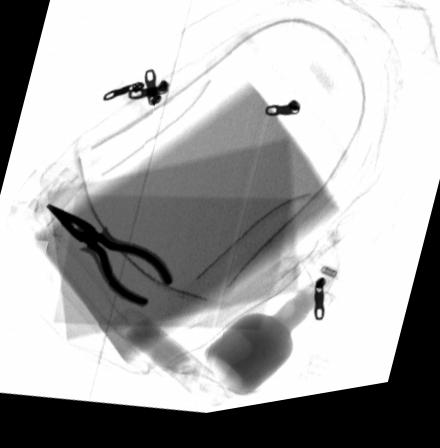Pliers: (45, 204, 174, 312)
